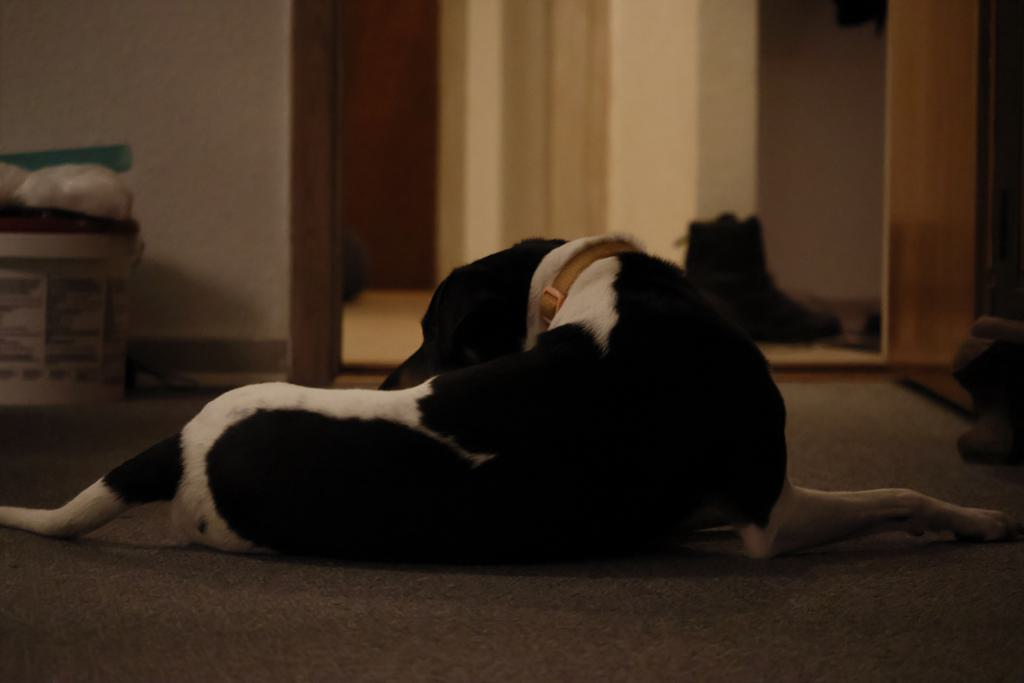Dog: (0, 219, 1024, 587)
